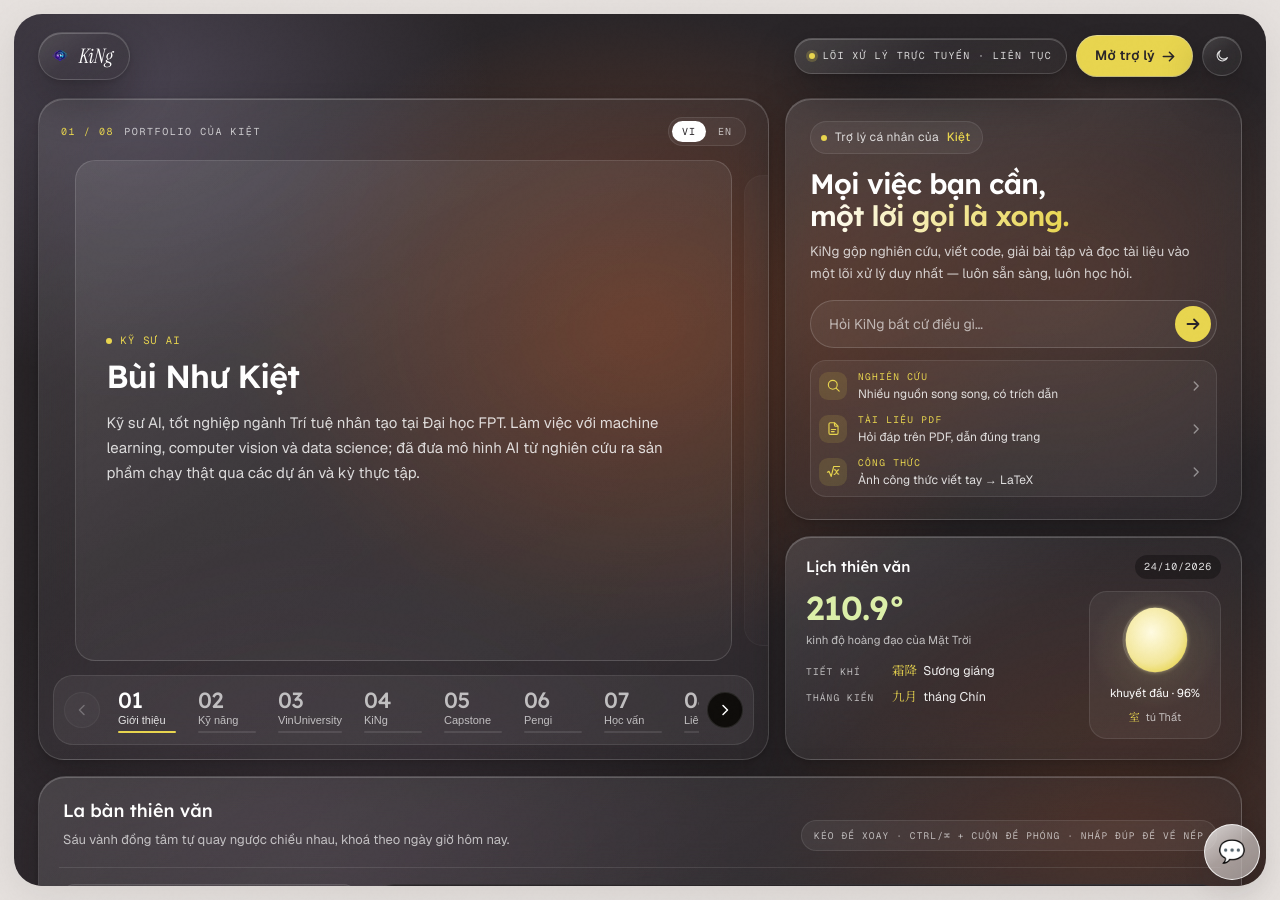
Test: Trang chủ ("/") — landing, không phải chat › bấm lối tắt Research mở thẳng trang Research
Click the link "Nghiên cứu Nhiều nguồn song song, có trích dẫn". click: (1014, 386)
box: [814, 364, 1213, 407]
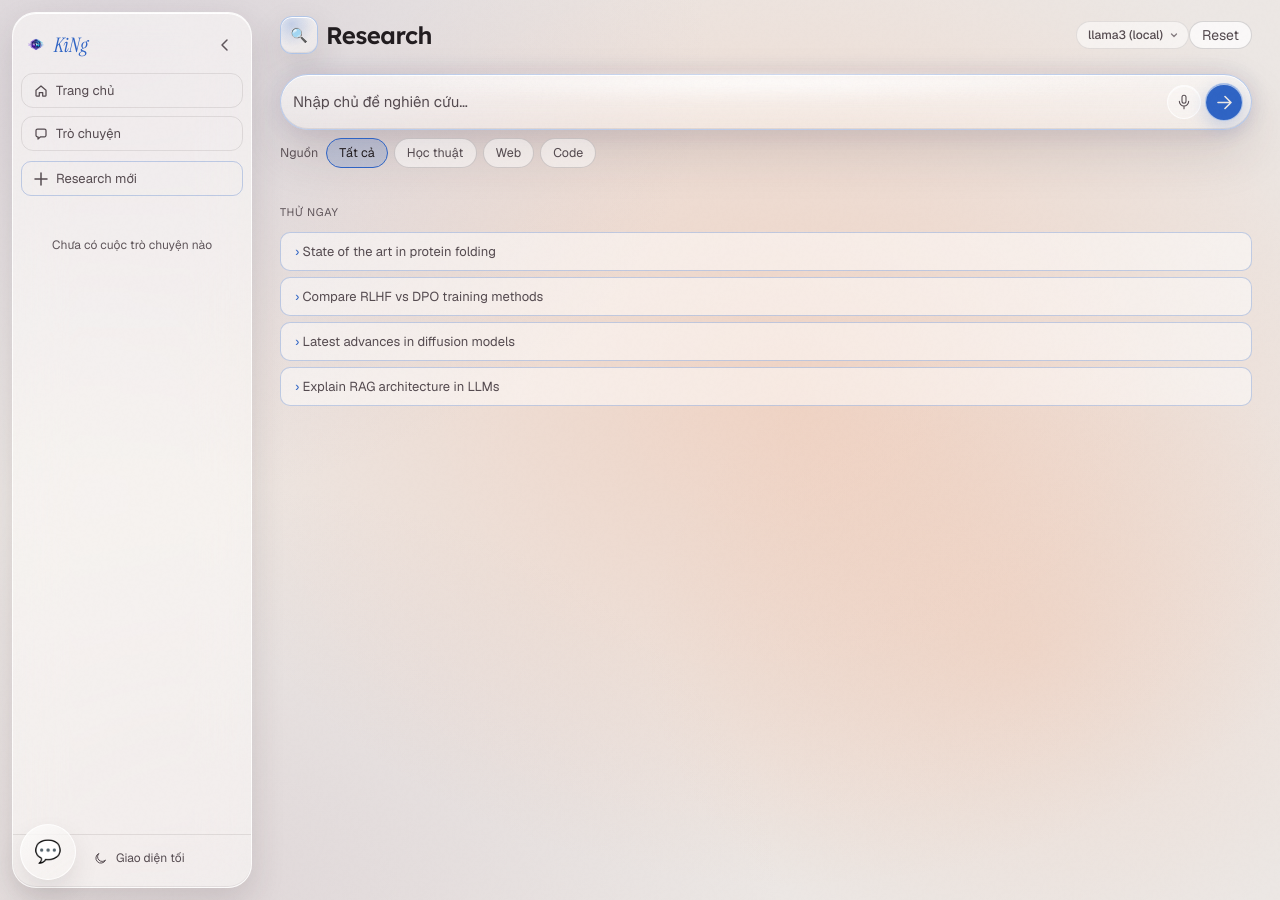
Expected: the text box with placeholder "Nhập chủ đề nghiên cứu…" is shown, [289, 85, 1159, 119]
